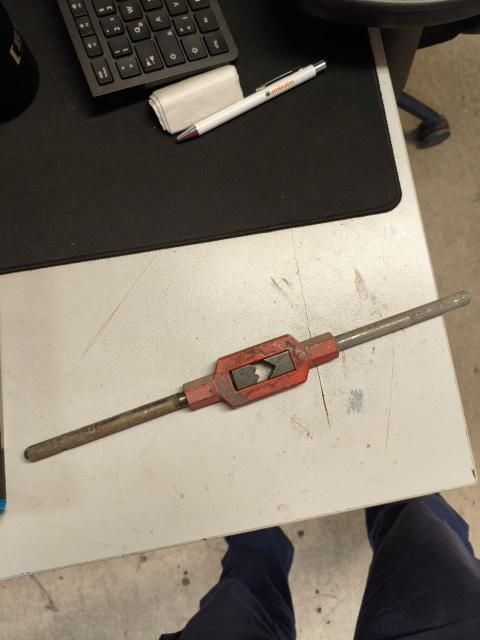Metal: (0, 293, 480, 515)
